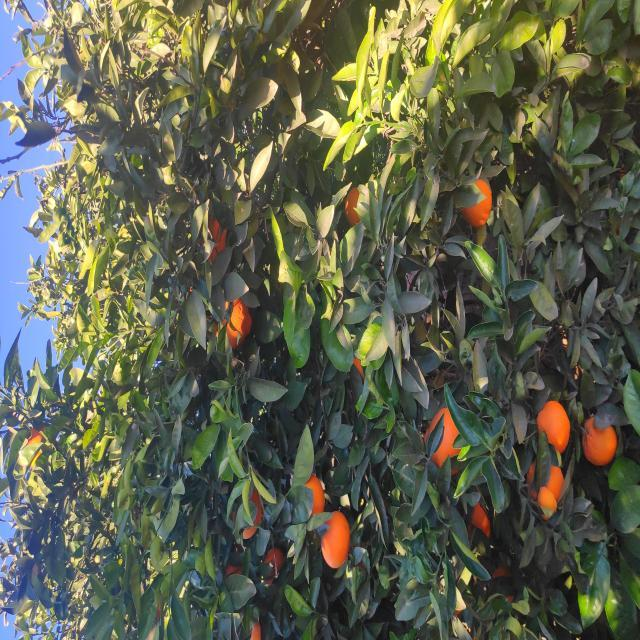Jeruk Sudah Matang: (162, 425, 232, 463), (185, 536, 240, 570), (176, 583, 224, 617), (72, 321, 130, 349), (296, 216, 341, 252), (416, 462, 462, 490), (57, 262, 96, 286), (376, 207, 422, 227), (101, 243, 152, 260), (172, 24, 212, 44), (124, 304, 165, 323), (100, 471, 140, 490), (140, 546, 176, 564), (417, 344, 452, 360), (122, 538, 153, 556), (140, 526, 180, 538), (64, 224, 80, 244), (264, 353, 284, 364), (0, 251, 19, 262)
